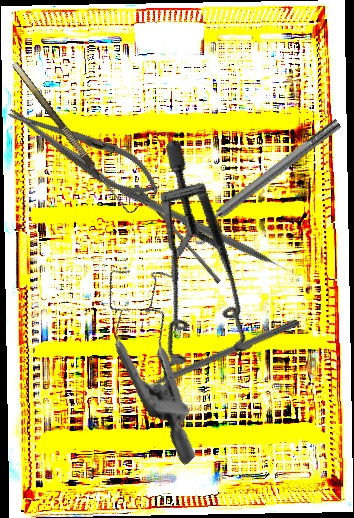Fixation Ring: (181, 112, 349, 248)
Hook Surgical: (11, 55, 140, 218)
Needle Holder: (0, 92, 168, 209)
Pusher: (117, 184, 303, 283), (127, 316, 300, 398), (130, 184, 225, 284)
Speculum: (87, 138, 315, 393), (48, 244, 275, 466)
